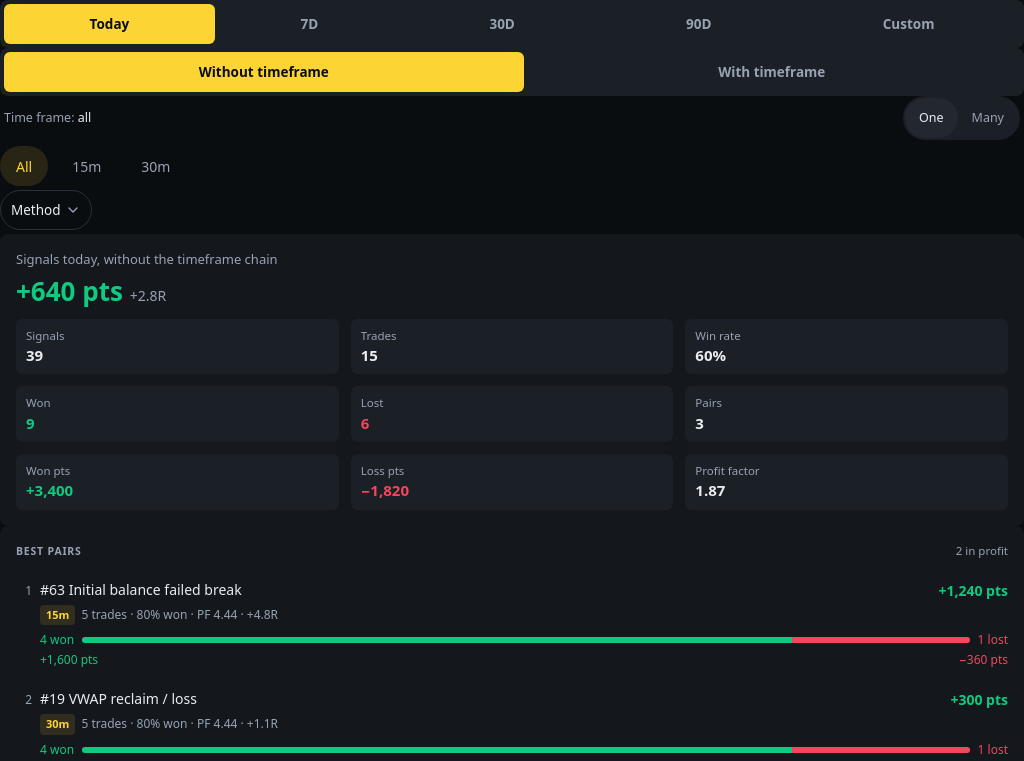
Test: SignalPairsScreen: the method filter › [critical] the list is the methods with a signal as the history is read, each with its trades and points -- and there is no strategy filter
The image size is (1024, 761).
Click the button with aria-label "Method filter:" at (46, 210), box [0,190,92,230]
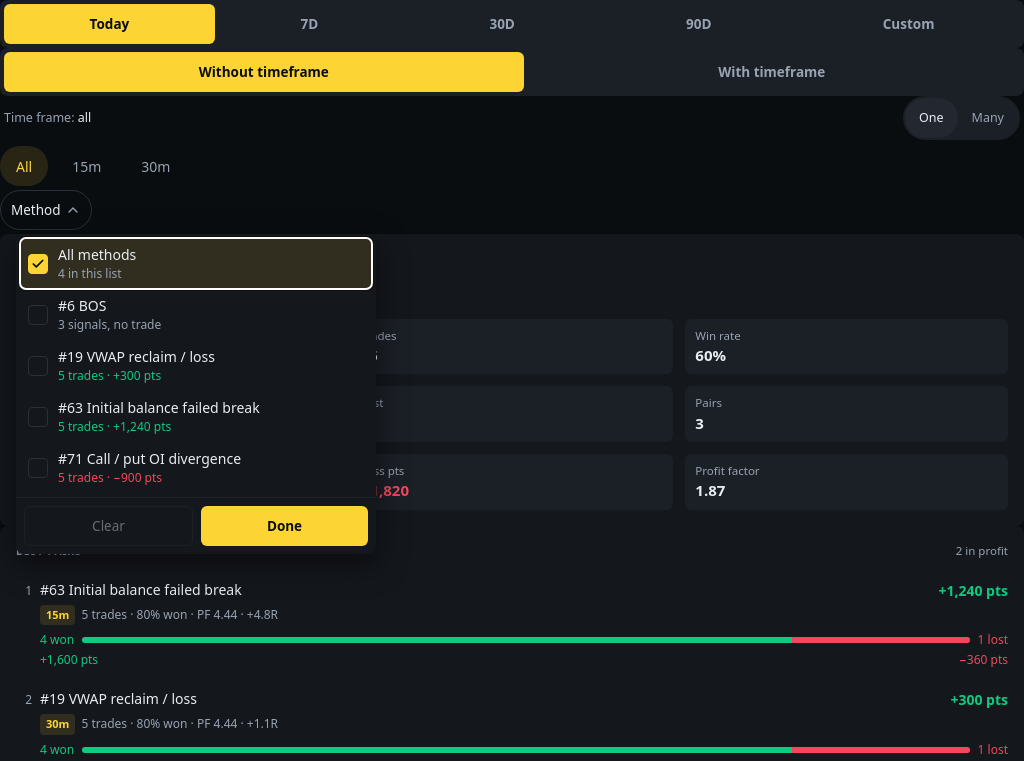
Expected: the options read "All methods4 in this list", "#6 BOS3 signals, no trade", "#19 VWAP reclaim / loss5 trades · +300 pts", "#63 Initial balance failed break5 trades · +1,240 pts", "#71 Call / put OI divergence5 trades · −900 pts", in this order, [20,238,372,289]; [20,289,372,340]; [20,340,372,391]; [20,391,372,442]; [20,442,372,493]
